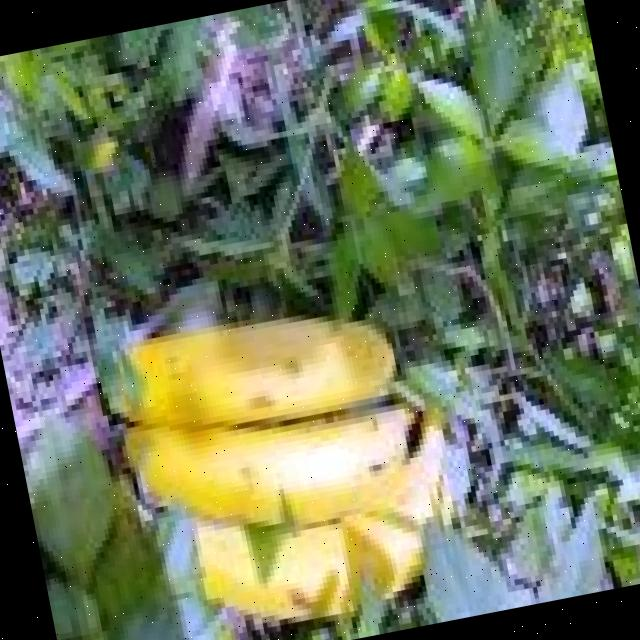Good_Banana-2-3 days: (110, 323, 443, 621)
